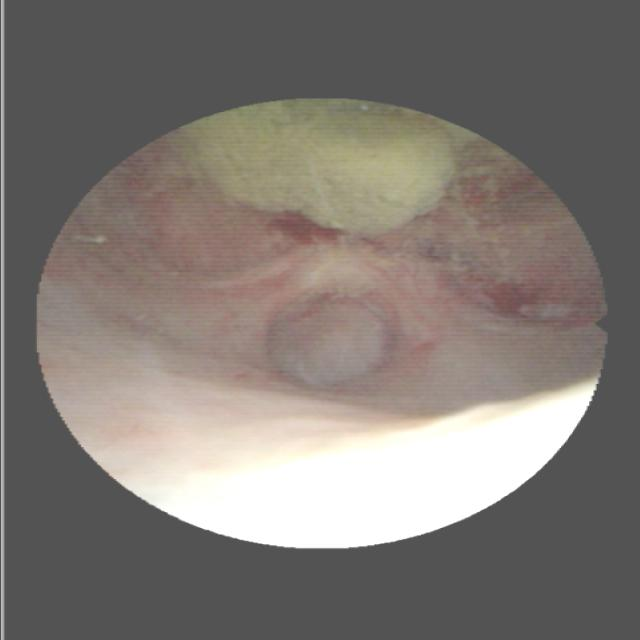stone: (184, 106, 471, 233)
tissue: (47, 152, 596, 537)
